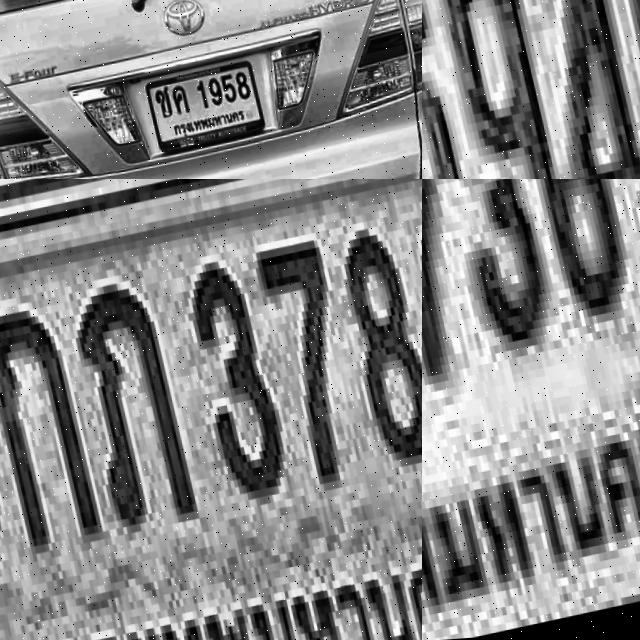license-plate: (0, 179, 422, 640), (422, 179, 640, 640), (422, 0, 640, 179), (129, 59, 262, 163)
